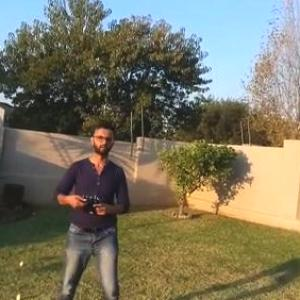follow: (50, 118, 138, 299)
